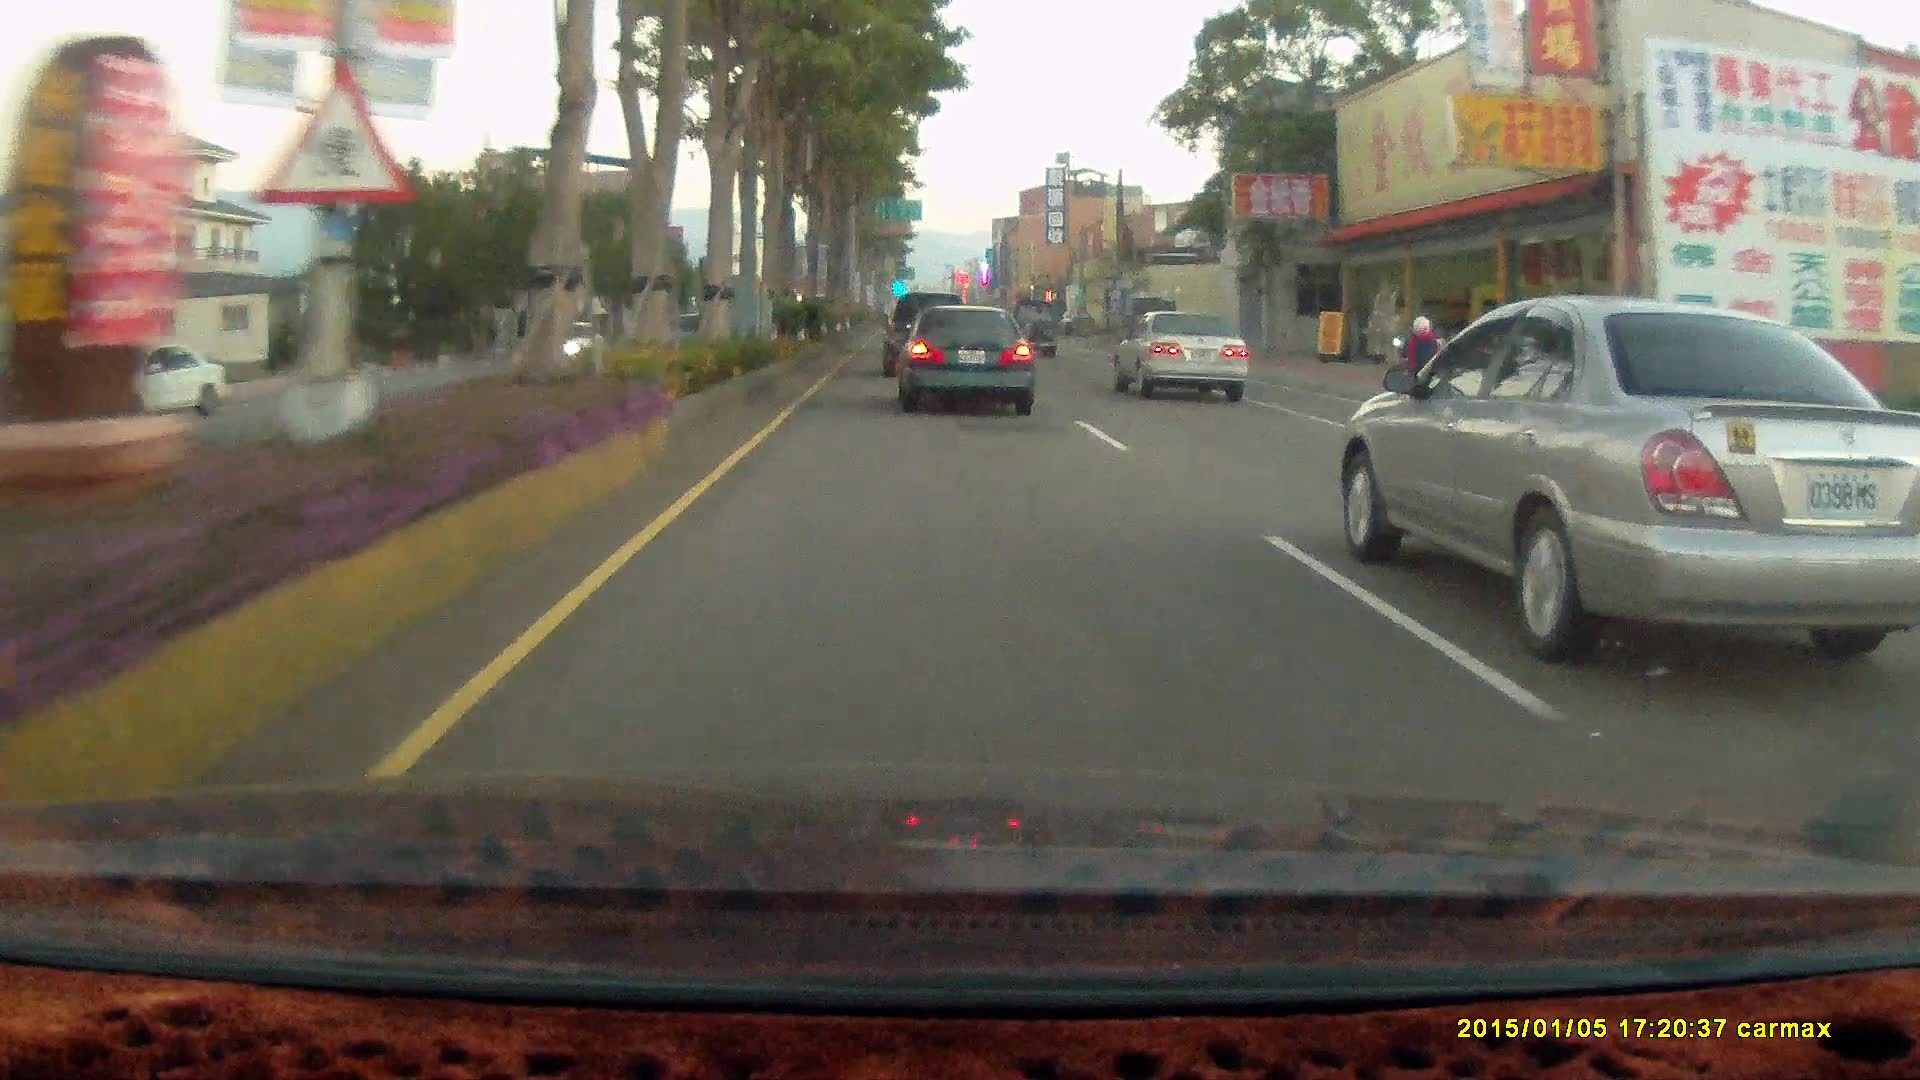rider: (1384, 308, 1456, 434), (1394, 311, 1451, 420)
vehicle: (1341, 289, 1920, 639), (895, 301, 1038, 416), (45, 339, 226, 429), (26, 337, 217, 422), (893, 301, 1035, 413), (1111, 309, 1248, 401), (1122, 302, 1256, 393), (883, 291, 973, 377), (880, 291, 963, 377), (1005, 296, 1058, 360)
